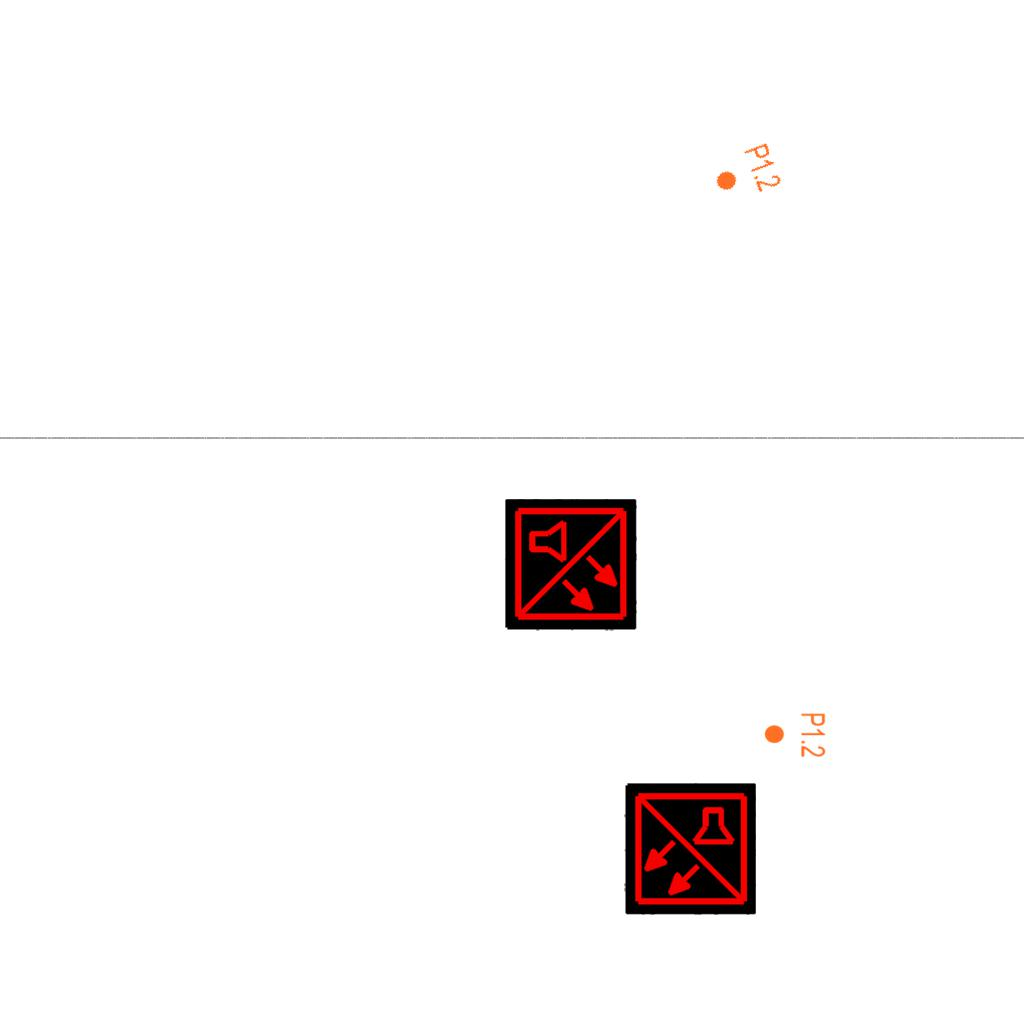Downlight_LED_Einbauleuchten_Flur: (707, 141, 785, 207), (763, 712, 827, 758)
OKW_Multisensormelder_(Kombination_optischer_Rauch-Kahlenmonoxid_Waerme-Melder): (505, 499, 637, 631), (624, 783, 756, 915)
